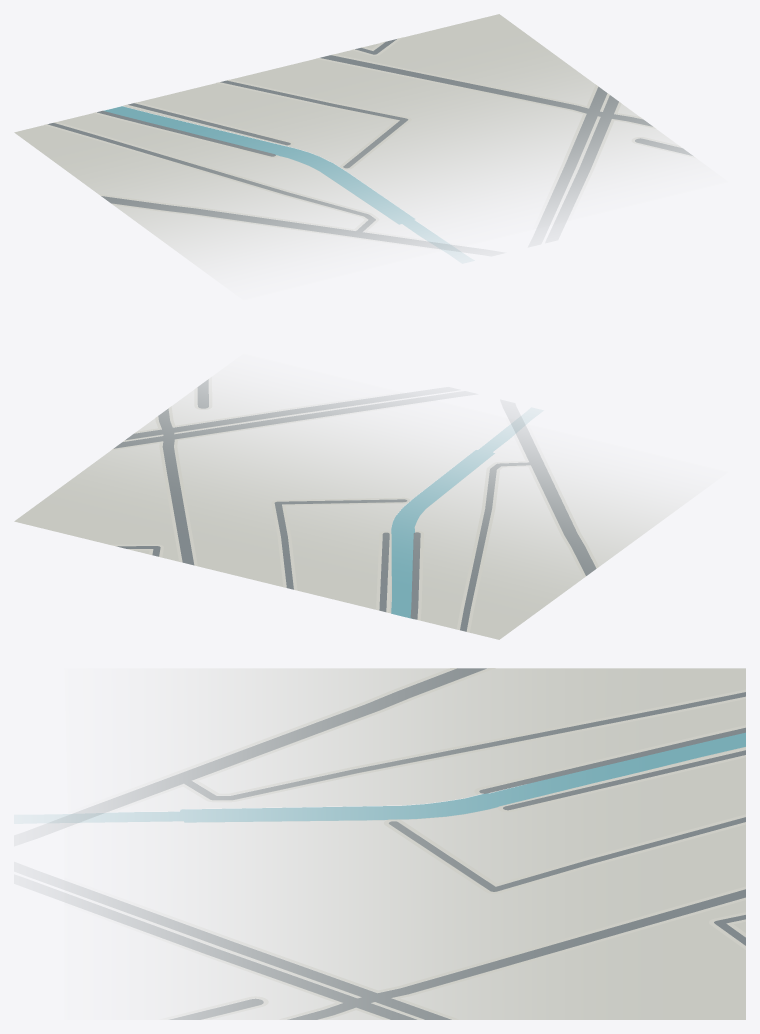
The picture shows the model from 3 angles, top to bottom: view 1: azimuth 30°, elevation 25°; view 2: azimuth 150°, elevation 25°; view 3: azimuth 270°, elevation 25°; orthographic projection. The views are drawn at different scales.
Visible parts, largest first — view 1: city; view 2: city; view 3: city.
Boxes of the visible parts, x1,y1,x2,y2 form: city: [14, 14, 695, 275]; city: [14, 377, 694, 639]; city: [38, 668, 745, 1019].
Size of the model in its own units: 500 by 0.4 by 440.
